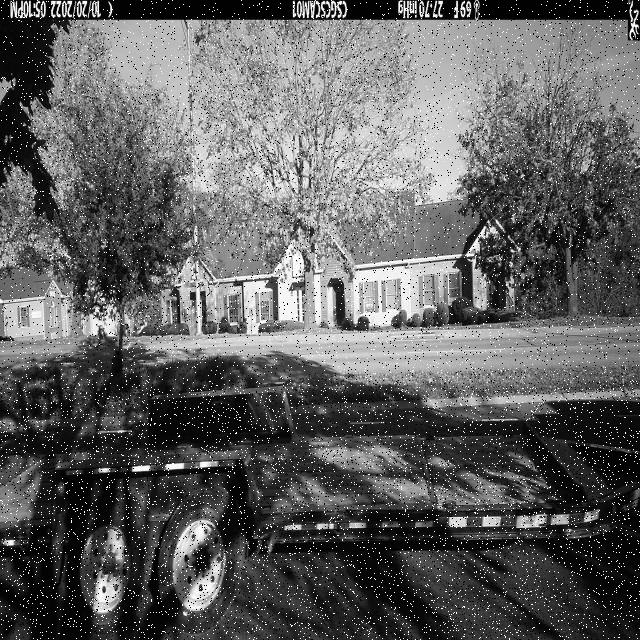Trailer: (0, 387, 640, 640)
